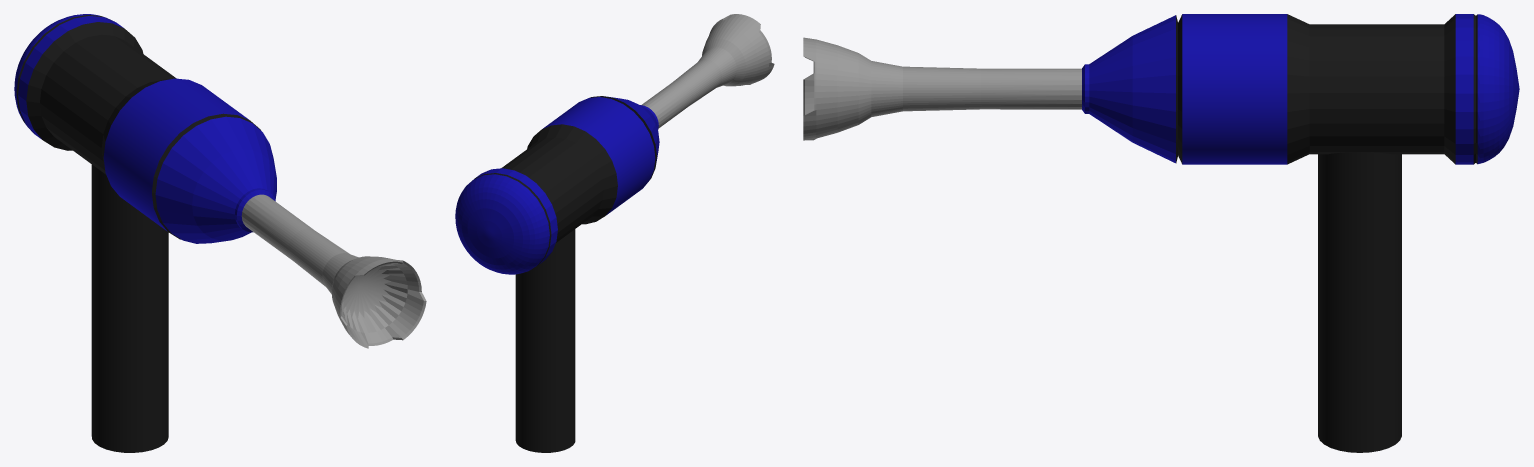
File: turret.fbx
The picture shows the model from 3 angles, left to right: view 1: azimuth 30°, elevation 25°; view 2: azimuth 150°, elevation 25°; view 3: azimuth 270°, elevation 25°; orthographic projection. The views are drawn at different scales.
Visible parts, largest first — view 1: turret_cylinder, turret_base; view 2: turret_cylinder, turret_base; view 3: turret_cylinder, turret_base.
Boxes of the visible parts, x1=… form: turret_cylinder: x1=14, y1=14, x2=426, y2=348; turret_base: x1=91, y1=164, x2=168, y2=452; turret_cylinder: x1=455, y1=14, x2=774, y2=274; turret_base: x1=515, y1=229, x2=575, y2=452; turret_cylinder: x1=803, y1=14, x2=1519, y2=164; turret_base: x1=1318, y1=152, x2=1401, y2=452.
Bounding box in the file's own units: 8.95 × 27.19 × 42.56.
